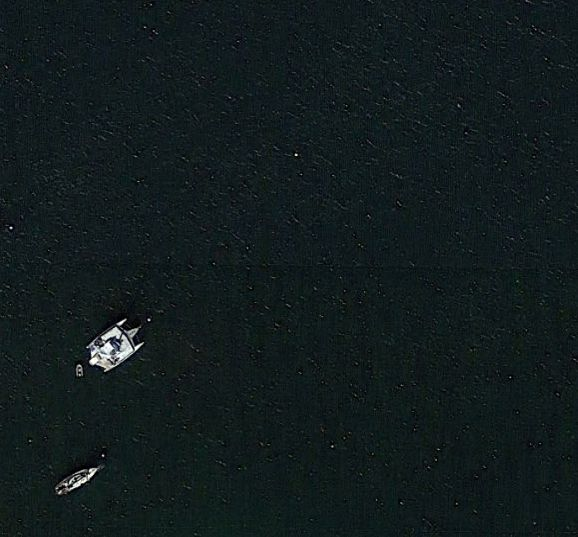boat: (84, 312, 153, 373), (53, 461, 103, 498)
